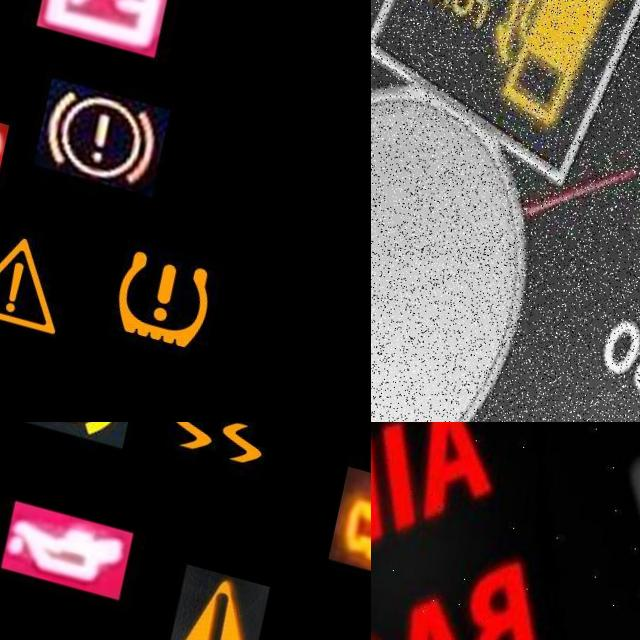Central Warning lamp: (0, 191, 100, 334), (176, 545, 280, 640)
